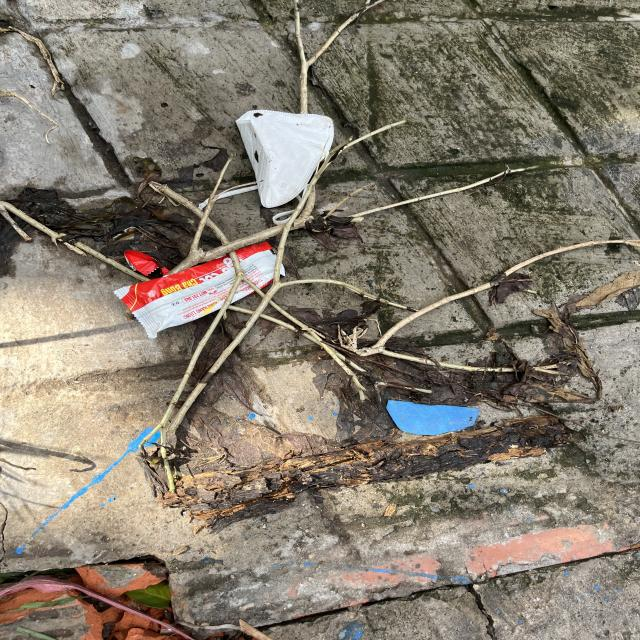mask: (234, 110, 335, 226)
packet: (113, 241, 287, 339)
